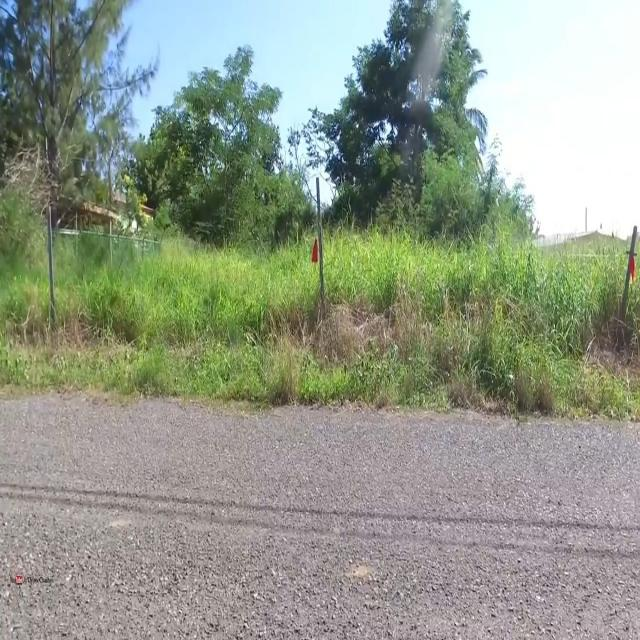Pole: (43, 205, 65, 313), (313, 178, 329, 308), (623, 223, 640, 332)
